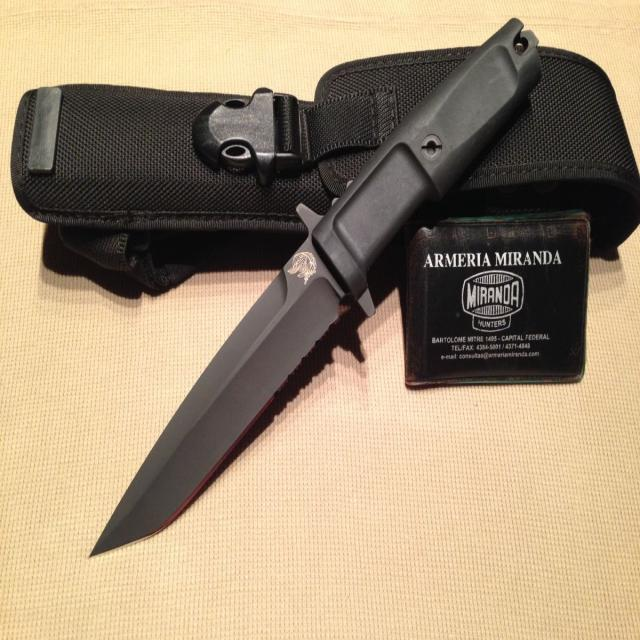knife: (84, 13, 545, 567)
